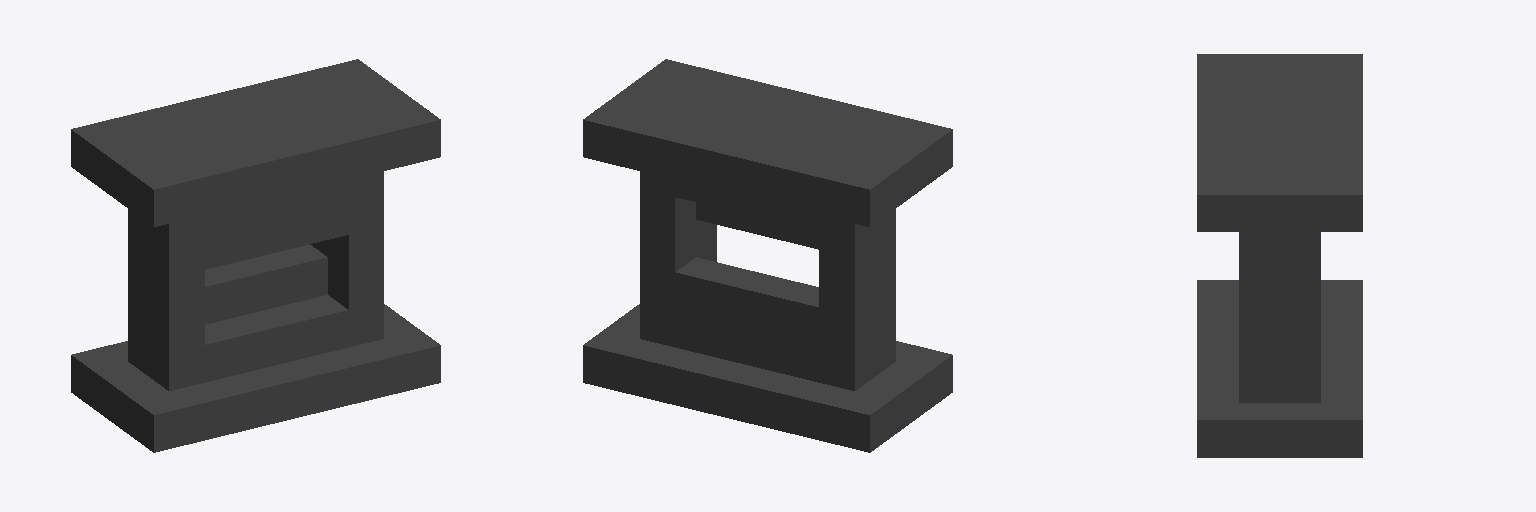
3 renders of one model, left to right at view 1: azimuth 30°, elevation 25°; view 2: azimuth 150°, elevation 25°; view 3: azimuth 270°, elevation 25°, orthographic.
Parts seen in each view (by area): view 1: object 1; view 2: object 1; view 3: object 1.
Boxes of the visible parts, x1=… form: object 1: x1=71, y1=59, x2=440, y2=452; object 1: x1=583, y1=59, x2=952, y2=452; object 1: x1=1197, y1=54, x2=1362, y2=457.
Bounding box in the file's own units: 0.8 × 0.7 × 0.4.
1 materials, 1 textured.